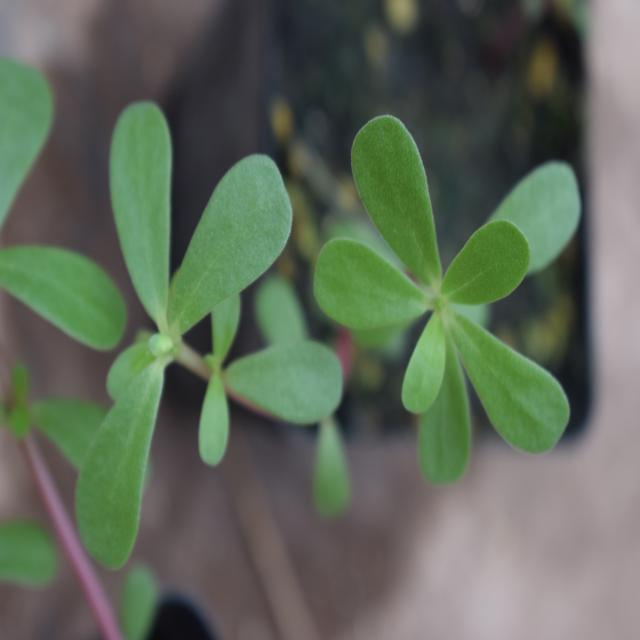purslane: (7, 86, 604, 572)
